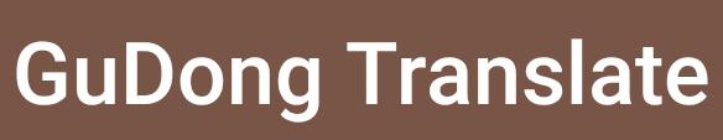TextView: (1, 1, 722, 139)
